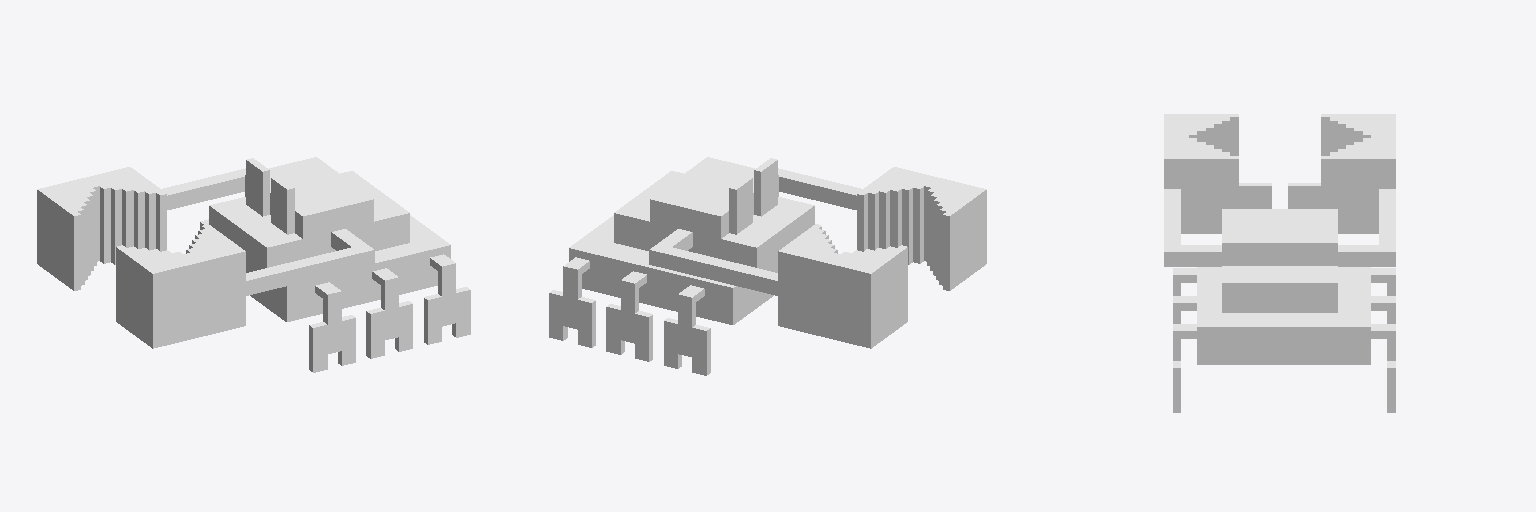
Rendered from Crab.obj.
3 views of the same model, side by side, from view 1: azimuth 30°, elevation 25°; view 2: azimuth 150°, elevation 25°; view 3: azimuth 270°, elevation 25° (orthographic).
Parts seen in each view (by area): view 1: Crab; view 2: Crab; view 3: Crab.
Part boxes in pixels (x1,y1,x2,y2): Crab: (37, 157, 470, 372); Crab: (549, 157, 986, 375); Crab: (1164, 114, 1395, 412).
Bounding box in the file's own units: 45 × 21 × 28.